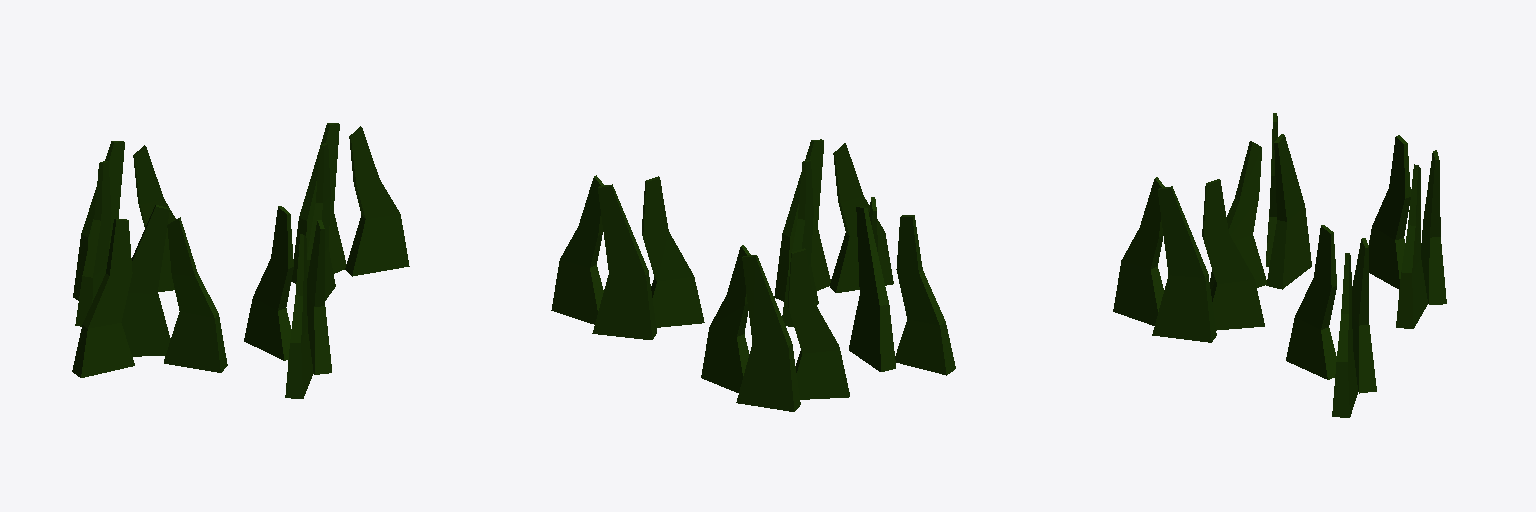
Rendered from grass.obj.
3 views of the same model, side by side, from view 1: azimuth 30°, elevation 25°; view 2: azimuth 150°, elevation 25°; view 3: azimuth 270°, elevation 25° (orthographic).
Parts seen in each view (by area): view 1: Cube.026_Cube.028, Cube.028_Cube.030, Cube.027_Cube.029, Cube.025_Cube.027; view 2: Cube.027_Cube.029, Cube.025_Cube.027, Cube.026_Cube.028, Cube.028_Cube.030; view 3: Cube.028_Cube.030, Cube.027_Cube.029, Cube.025_Cube.027, Cube.026_Cube.028.
Part boxes in pixels (x1,y1,x2,y2): Cube.026_Cube.028: (72,205,227,377); Cube.028_Cube.030: (244,206,331,398); Cube.027_Cube.029: (291,123,409,300); Cube.025_Cube.027: (73,141,175,326); Cube.027_Cube.029: (551,175,704,339); Cube.025_Cube.027: (701,245,849,411); Cube.026_Cube.028: (849,197,955,375); Cube.028_Cube.030: (774,139,893,326); Cube.028_Cube.030: (1113,177,1264,342); Cube.027_Cube.029: (1286,225,1376,417); Cube.025_Cube.027: (1369,135,1446,328); Cube.026_Cube.028: (1210,113,1311,290).
Bounding box in the file's own units: 0.8078 × 0.312 × 0.6431.